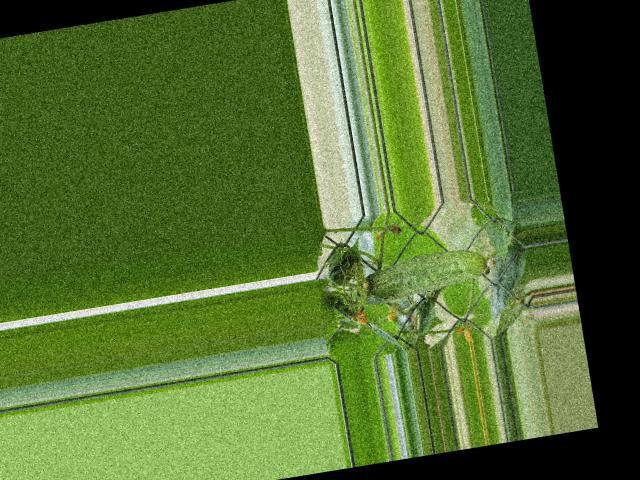cucumber: (353, 244, 498, 305)
